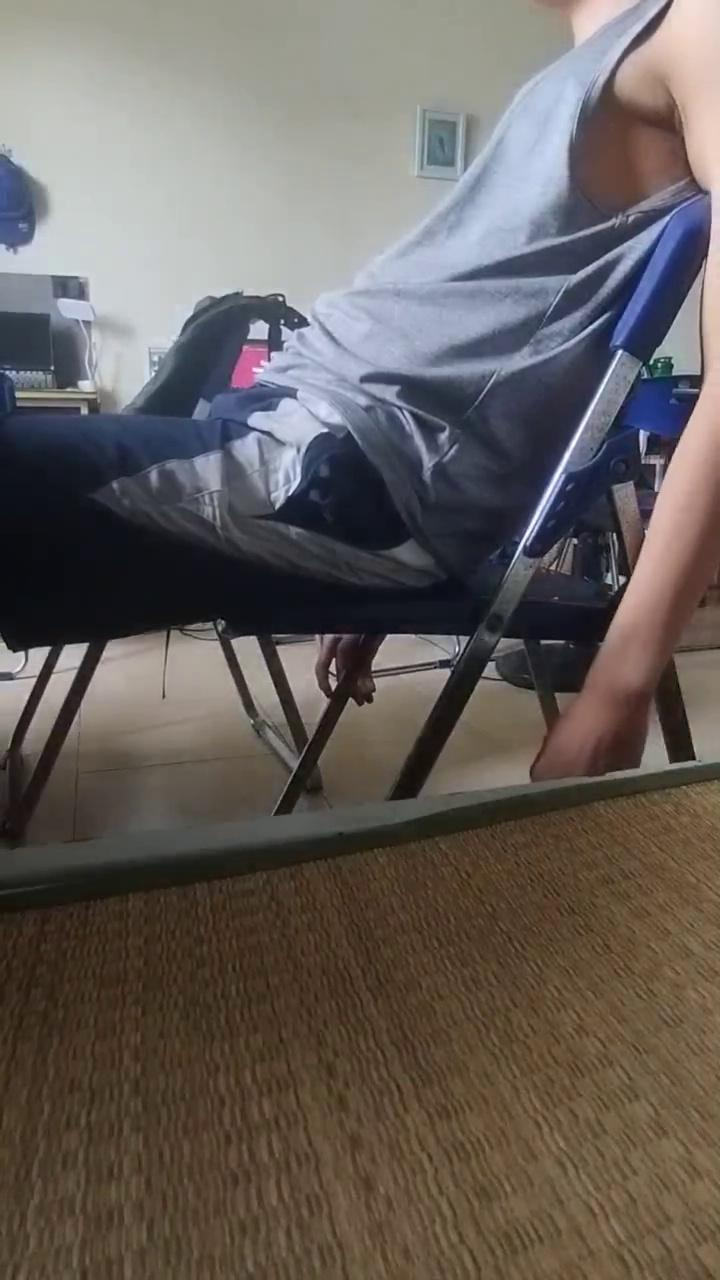BadPosture: (0, 0, 719, 779)
